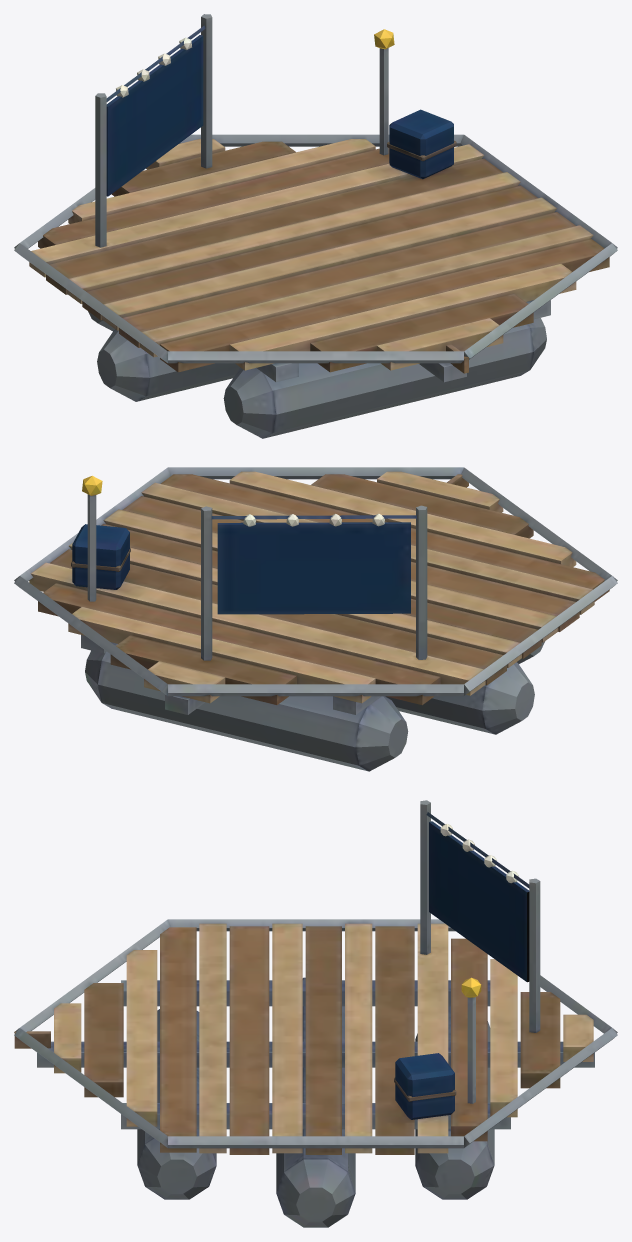
File: raft-b-age20.glb
3 views of the same model, one above another, from view 1: azimuth 30°, elevation 25°; view 2: azimuth 150°, elevation 25°; view 3: azimuth 270°, elevation 25° (orthographic).
Visible parts, largest first — view 1: raft-b-age20; view 2: raft-b-age20; view 3: raft-b-age20.
Part boxes in pixels (x1,y1,x2,y2): raft-b-age20: [14, 14, 617, 438]; raft-b-age20: [14, 467, 617, 771]; raft-b-age20: [14, 800, 617, 1227].
Size of the model in its own units: 1.59 by 0.8541 by 1.83.
1 material, 1 textured.
